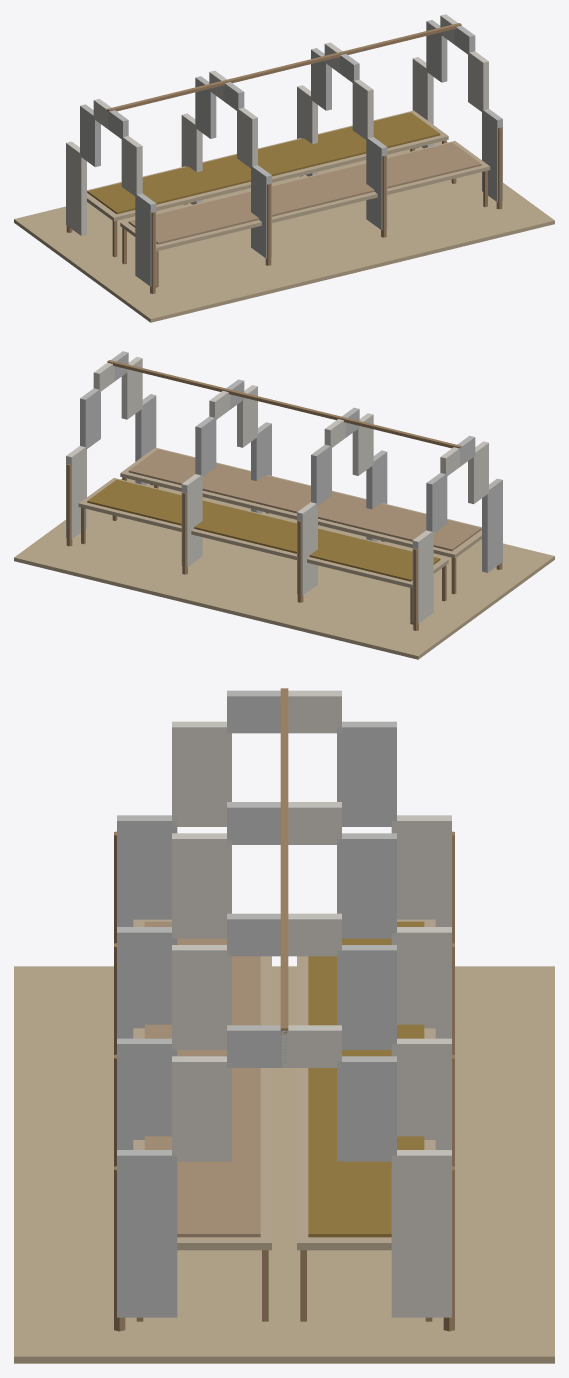
Rendered from cacao_estacion_03_secado.glb.
3 views of the same model, one above another, from view 1: azimuth 30°, elevation 25°; view 2: azimuth 150°, elevation 25°; view 3: azimuth 270°, elevation 25° (orthographic). The views are drawn at different scales.
Parts seen in each view (by area): view 1: model; view 2: model; view 3: model.
Boxes of the visible parts, left/top/right/bottom form: model: left=14, top=14, right=554, bottom=322; model: left=14, top=351, right=554, bottom=659; model: left=14, top=688, right=554, bottom=1363.
Bounding box in the file's own units: 7 × 2.6 × 4.1.
